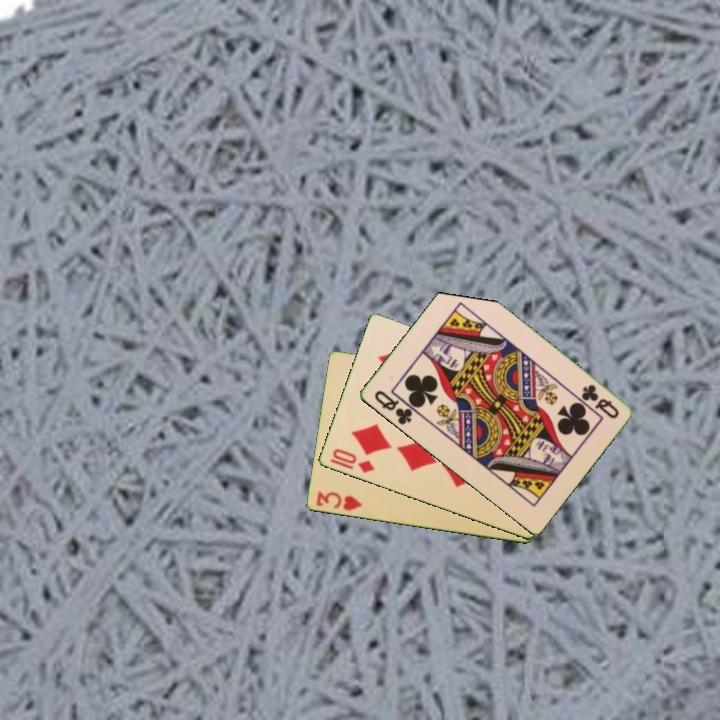10d: (326, 445, 378, 476)
3h: (312, 488, 365, 514)
Qc: (370, 387, 415, 428), (577, 381, 621, 422)
